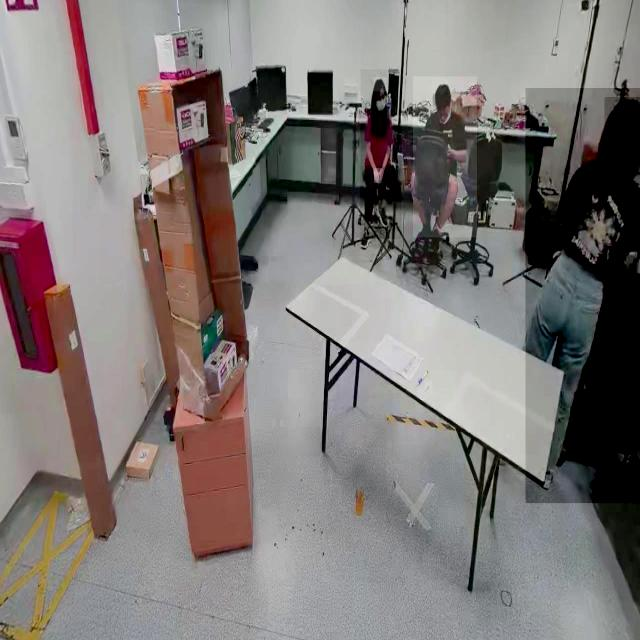face_mask: (371, 92, 387, 118)
hand_noglove: (409, 166, 417, 195), (374, 168, 382, 184), (379, 166, 386, 182)
head_nohelmet: (604, 97, 640, 131), (434, 82, 452, 99), (373, 78, 387, 92)
person: (525, 88, 640, 504), (413, 76, 477, 238), (360, 69, 402, 240)
